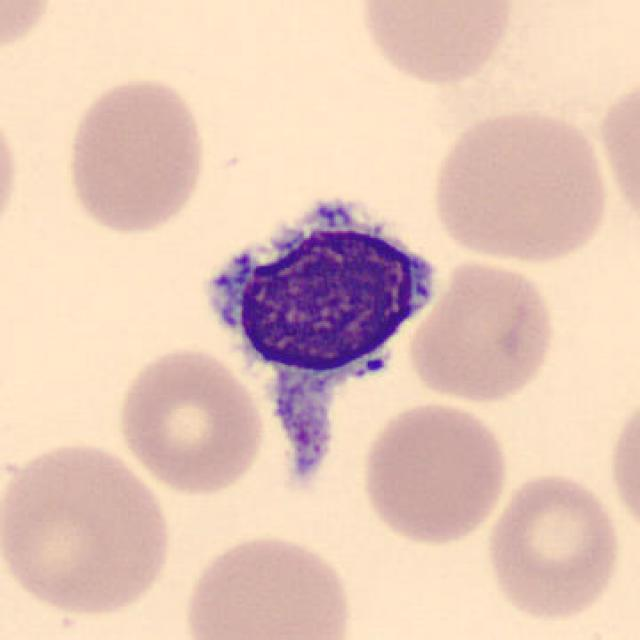Lymphocyte: (190, 176, 448, 490)
RBC: (0, 436, 178, 620), (425, 102, 613, 268), (60, 71, 212, 238), (112, 342, 268, 497), (356, 397, 512, 548), (405, 255, 560, 406), (482, 467, 624, 624), (176, 529, 359, 640), (352, 0, 519, 88), (594, 69, 638, 236), (604, 390, 640, 543), (0, 96, 25, 250), (0, 0, 60, 60)
